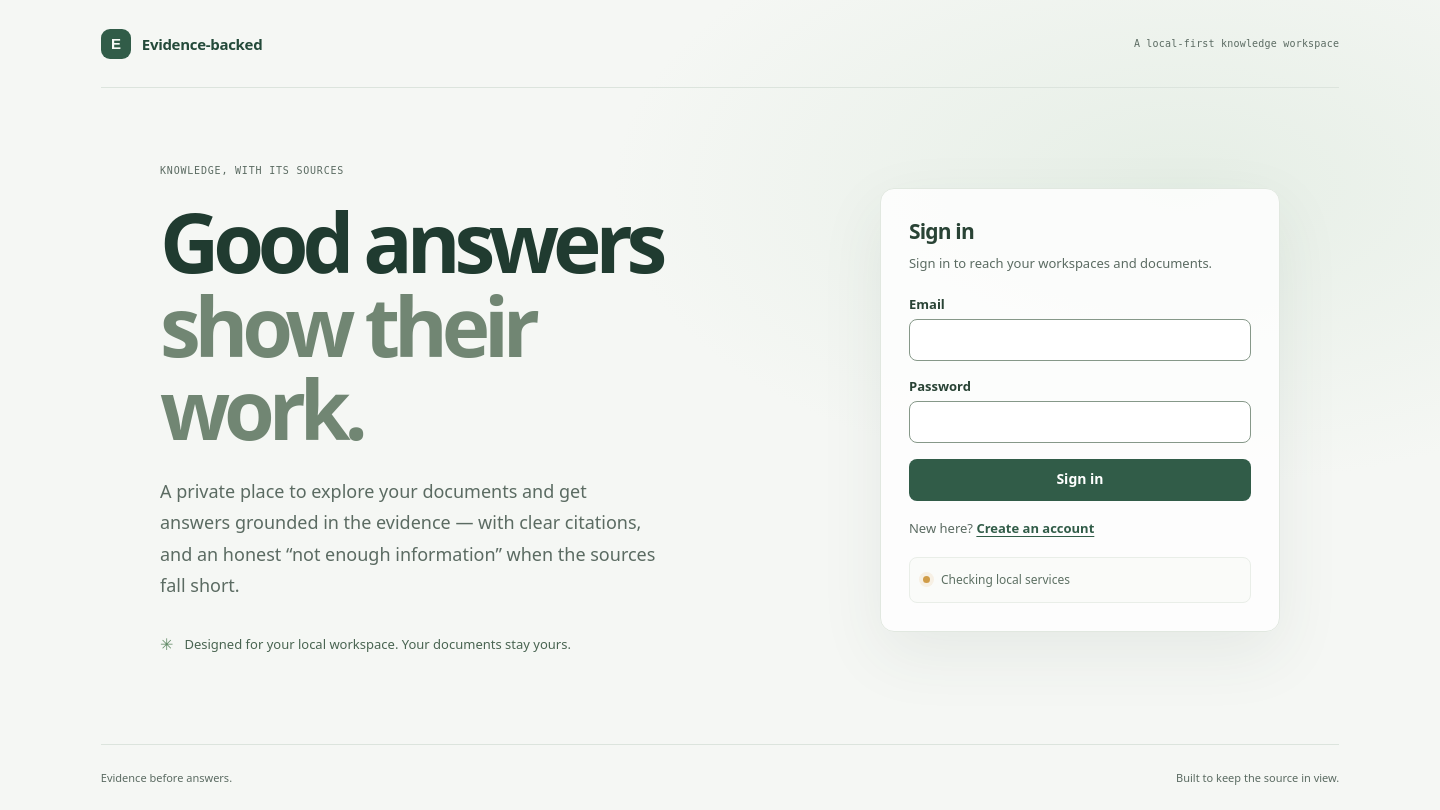
it: App › signs in and opens the first workspace
Type "reader@example.com" into the field labelled "Email" at (1080, 340), box [909,319,1251,361]
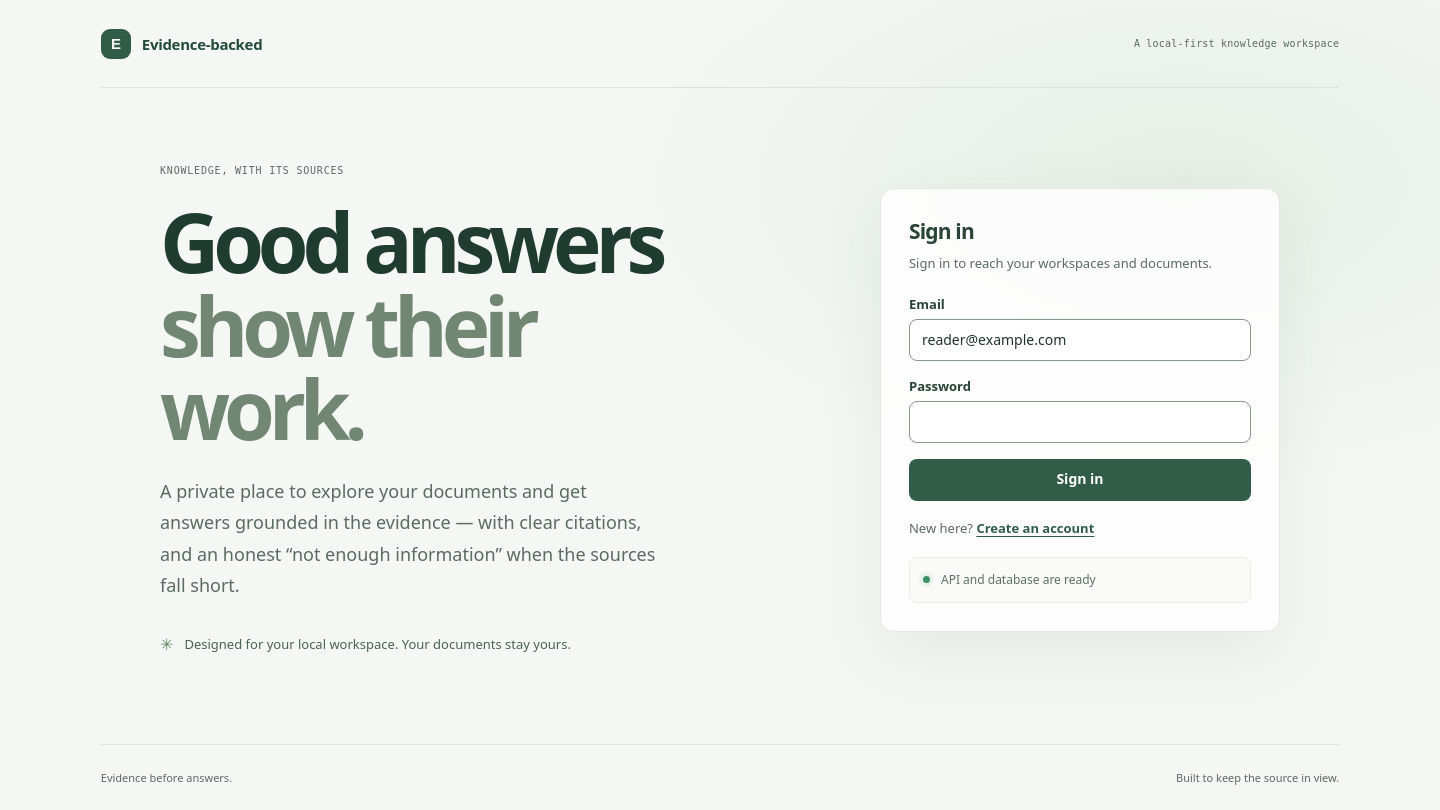
Type "correct horse battery" into the password field labelled "Password" at (1080, 422), box [909,401,1251,443]
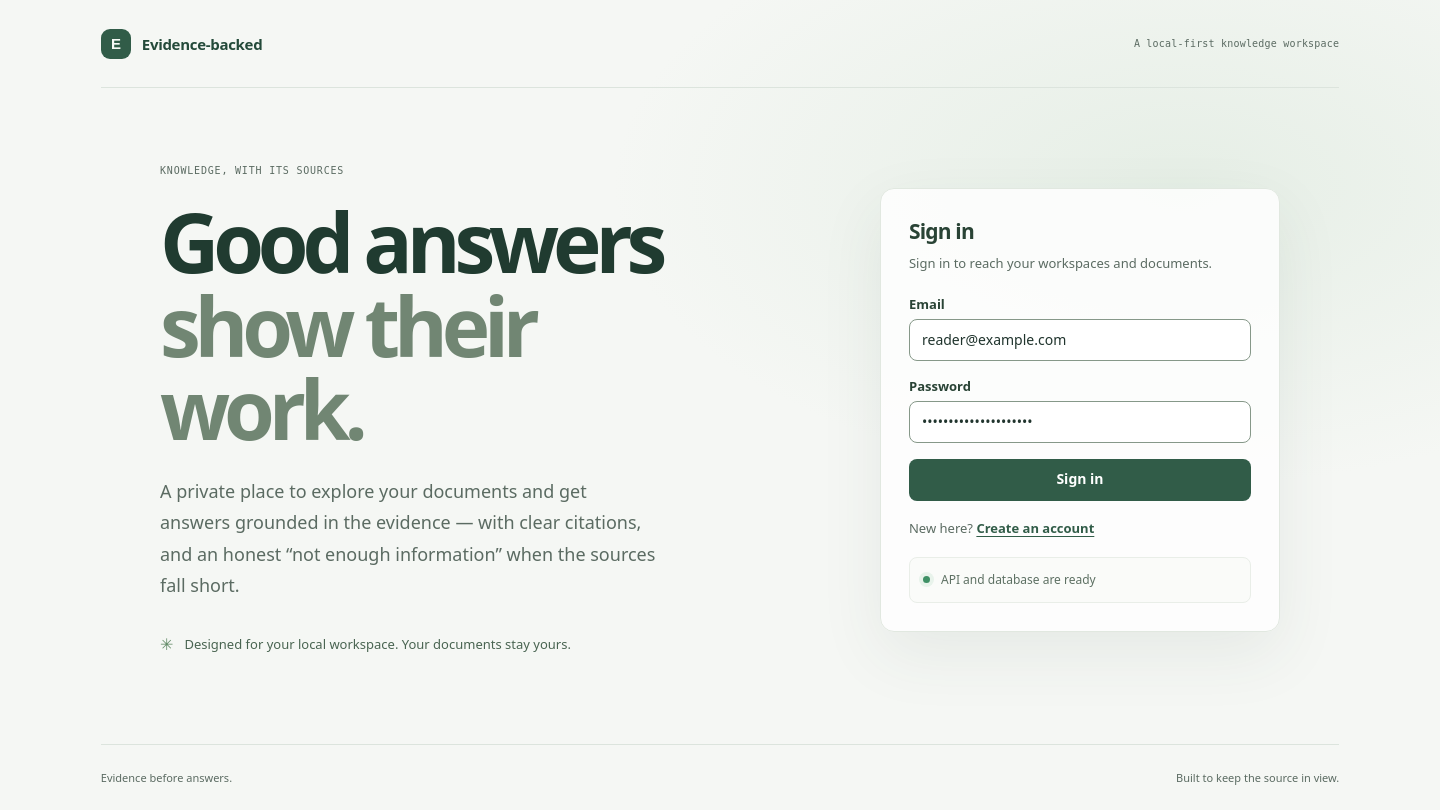
Click the button "Sign in" at (1080, 480), box [909,459,1251,501]
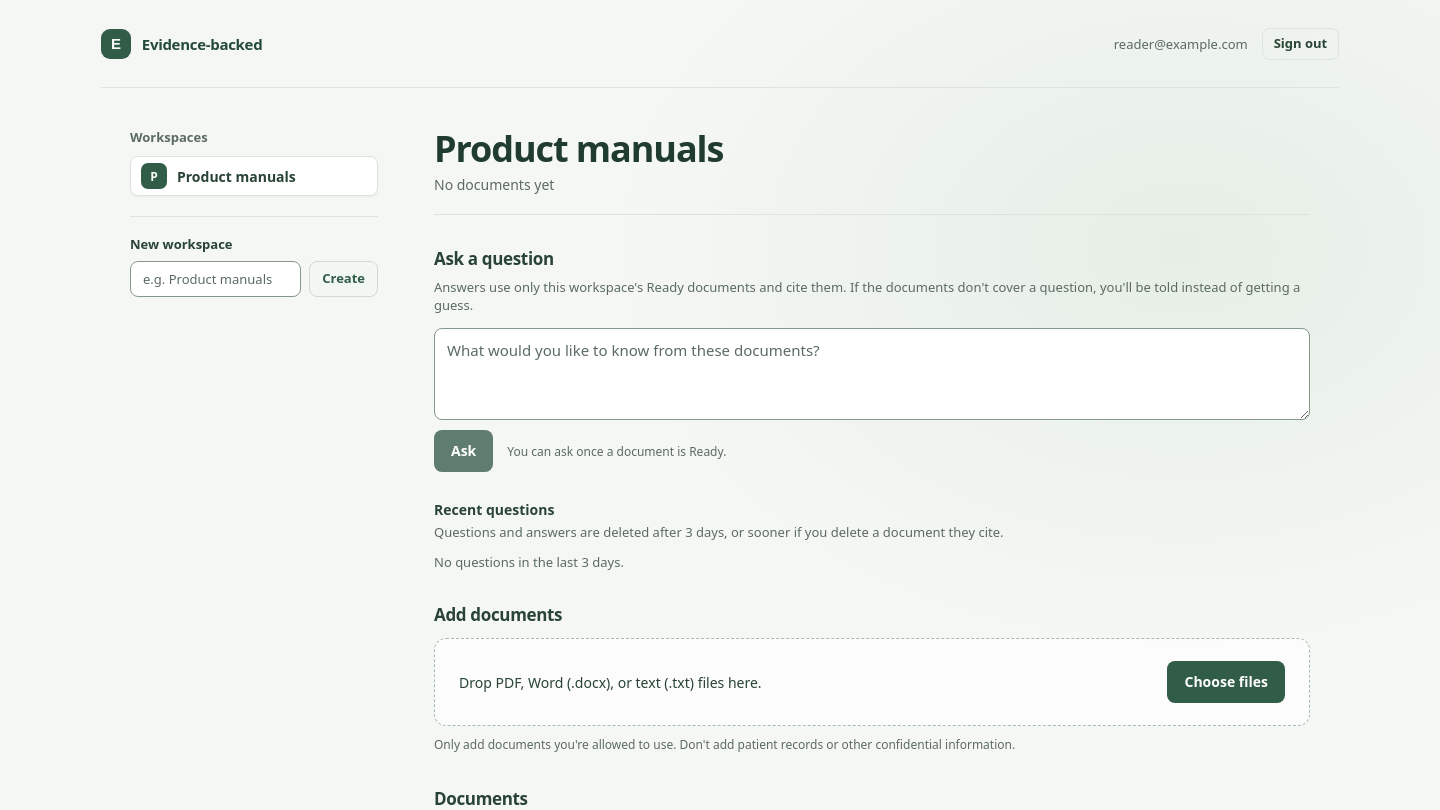
Expected: the heading "Product manuals" is shown, [434,124,723,173]
Expected: the text "reader@example.com" is shown, [1114,34,1248,52]
